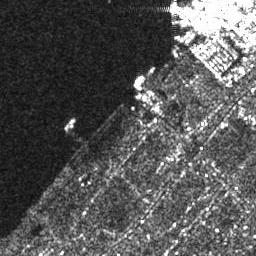ship: (132, 72, 145, 90), (63, 118, 77, 132)
